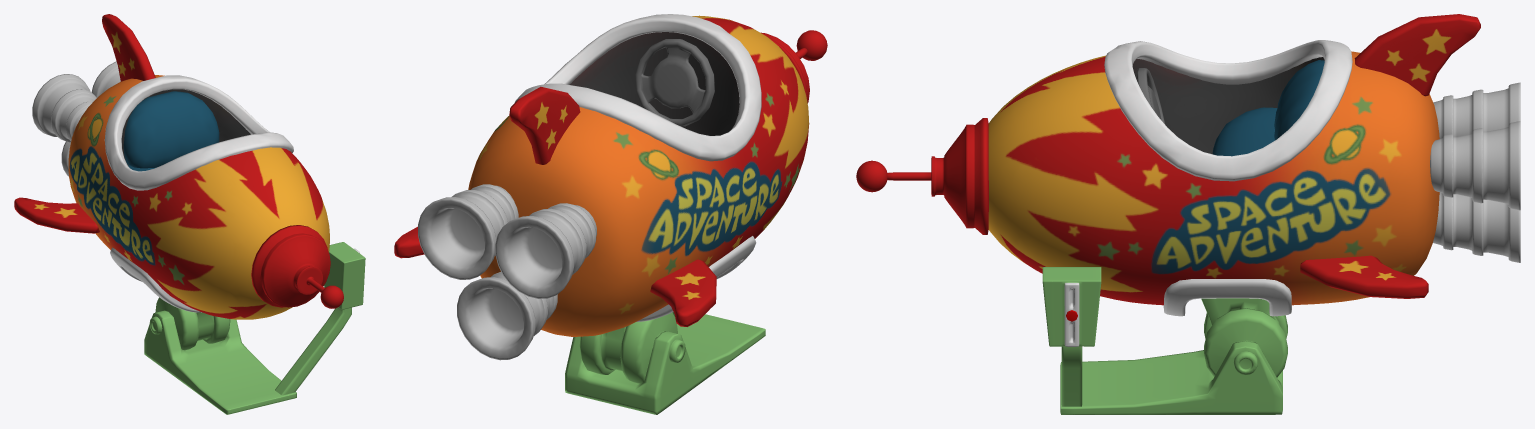
3 renders of one model, left to right at view 1: azimuth 30°, elevation 25°; view 2: azimuth 150°, elevation 25°; view 3: azimuth 270°, elevation 25°, orthographic. The views are drawn at different scales.
Parts seen in each view (by area): view 1: space_adventure_3; view 2: space_adventure_3; view 3: space_adventure_3.
Part boxes in pixels (x1,y1,x2,y2): space_adventure_3: (14,14,365,414); space_adventure_3: (394,14,827,414); space_adventure_3: (856,14,1520,414).
Bounding box in the file's own units: 0.9099 × 1.07 × 1.71.
Materials: 1 (1 with a texture image).
